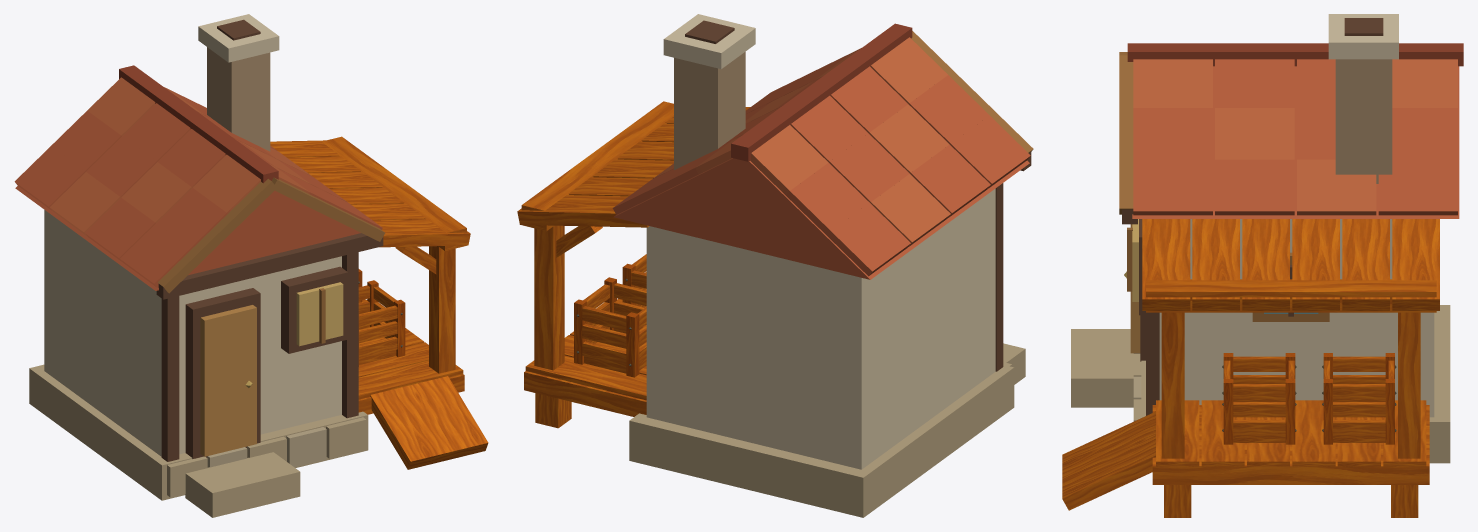
Rendered from warehouse-base.gltf.
The picture shows the model from 3 angles, left to right: view 1: azimuth 30°, elevation 25°; view 2: azimuth 150°, elevation 25°; view 3: azimuth 270°, elevation 25°; orthographic projection. The views are drawn at different scales.
Visible parts, largest first — view 1: warehouse-base; view 2: warehouse-base; view 3: warehouse-base.
Part boxes in pixels (x1,y1,x2,y2): warehouse-base: (14, 14, 488, 517); warehouse-base: (517, 14, 1033, 517); warehouse-base: (1062, 14, 1463, 517).
Size of the model in its own units: 1.9 by 2.03 by 1.77.
Materials: 2 (1 with a texture image).
